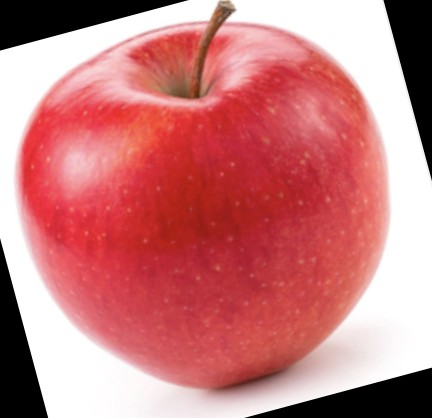fresh_apple: (21, 24, 391, 389)
